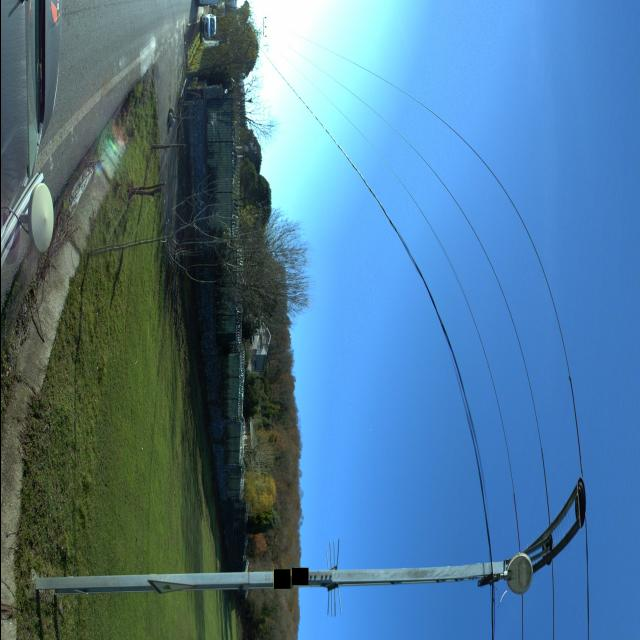Utility Pole Information Plate: (273, 569, 290, 589), (291, 568, 307, 585)
